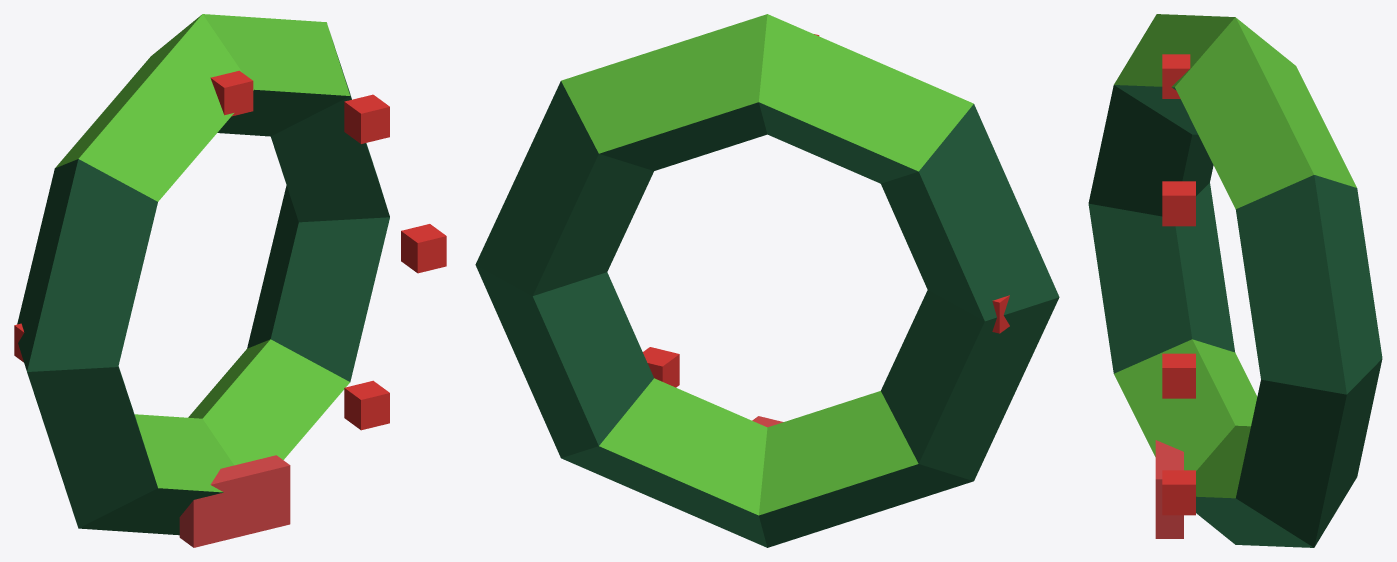
Rendered from Wreath.fbx.
The picture shows the model from 3 angles, left to right: view 1: azimuth 30°, elevation 25°; view 2: azimuth 150°, elevation 25°; view 3: azimuth 270°, elevation 25°; orthographic projection. The views are drawn at different scales.
Parts seen in each view (by area): view 1: Wreath; view 2: Wreath; view 3: Wreath.
Boxes of the visible parts, x1,y1,x2,y2 form: Wreath: [14, 14, 446, 547]; Wreath: [475, 14, 1059, 547]; Wreath: [1088, 14, 1382, 547].
Size of the model in its own units: 2.86 by 3.1 by 1.57.
1 material, 1 textured.
